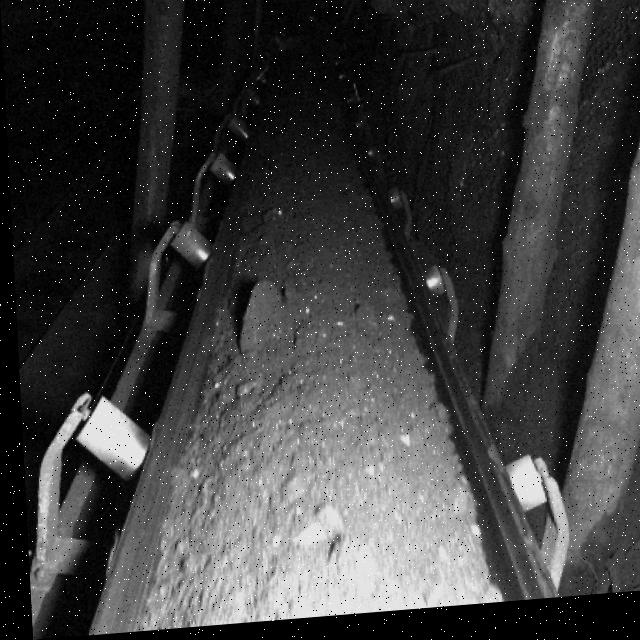large_sized_coal: (234, 283, 282, 359)
